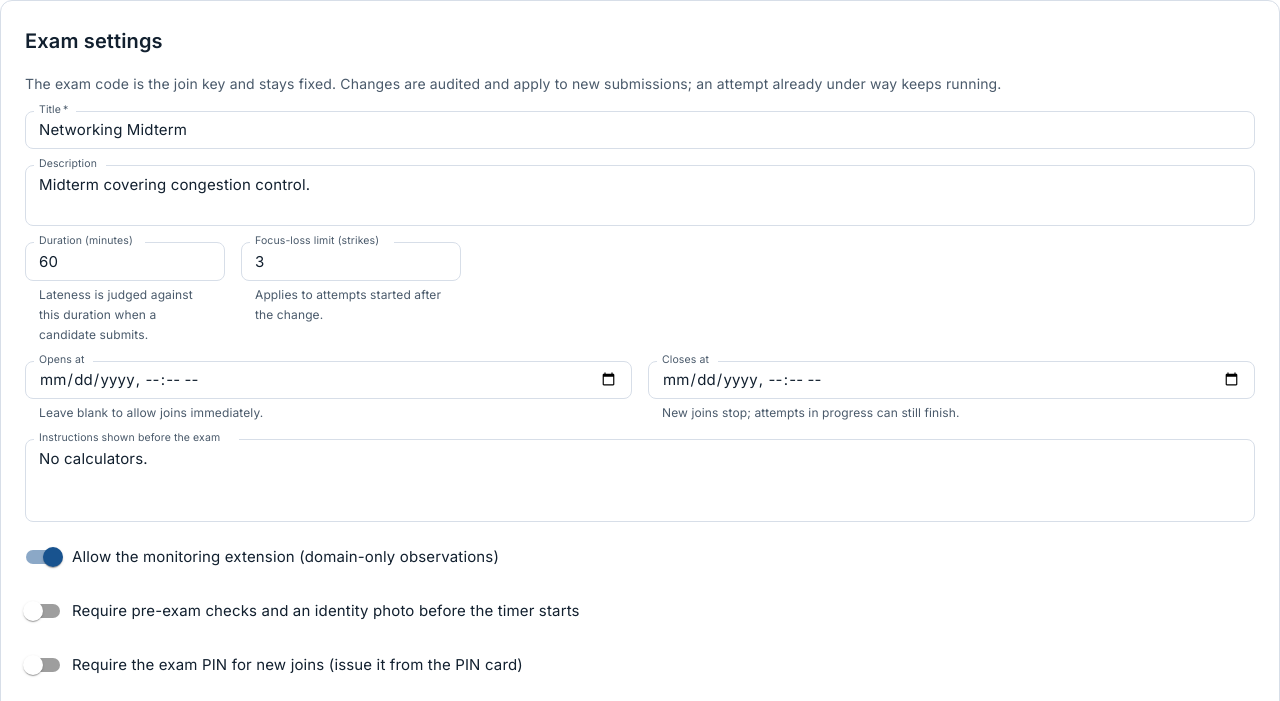
Test: SettingsTab › surfaces a validation error without sending the update
Step 1. Replace the text in the number field labelled "Duration (minutes)" with "3" → (125, 262), box [25,242,225,281]
(page scrolled)
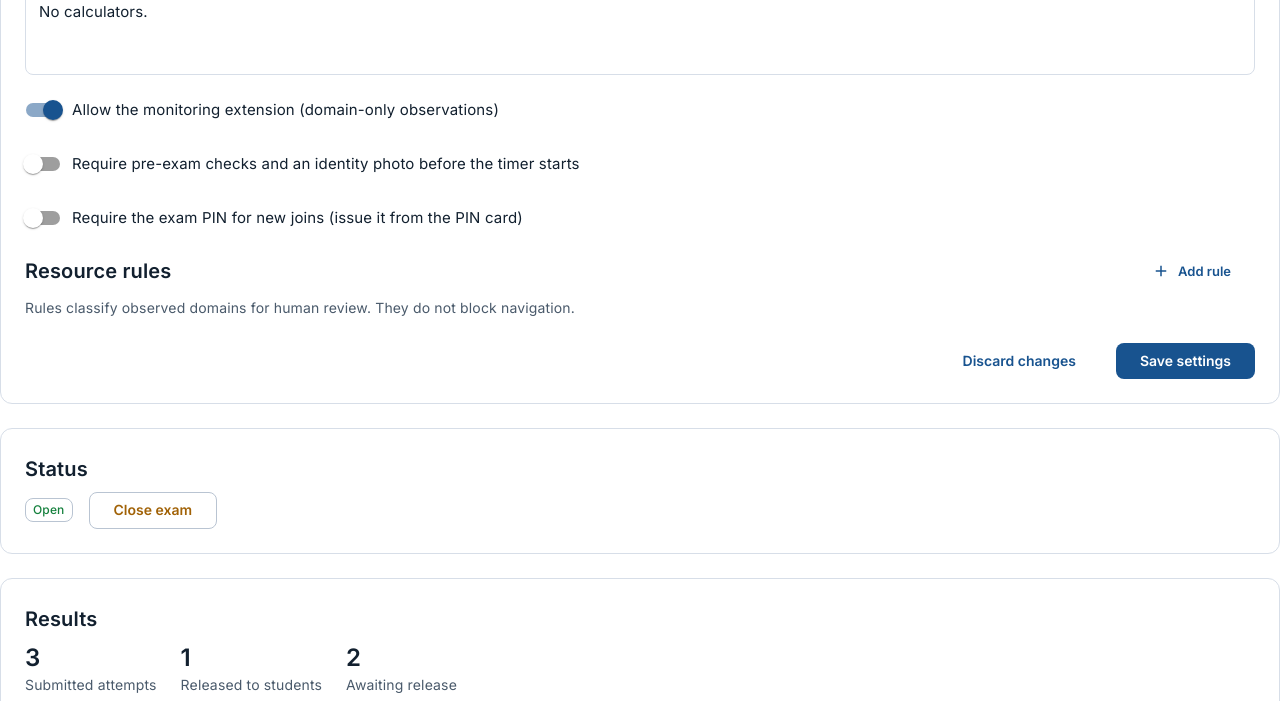
Step 2. Click the button "Save settings" → (1185, 361), box [1116,343,1255,379]
(page scrolled)
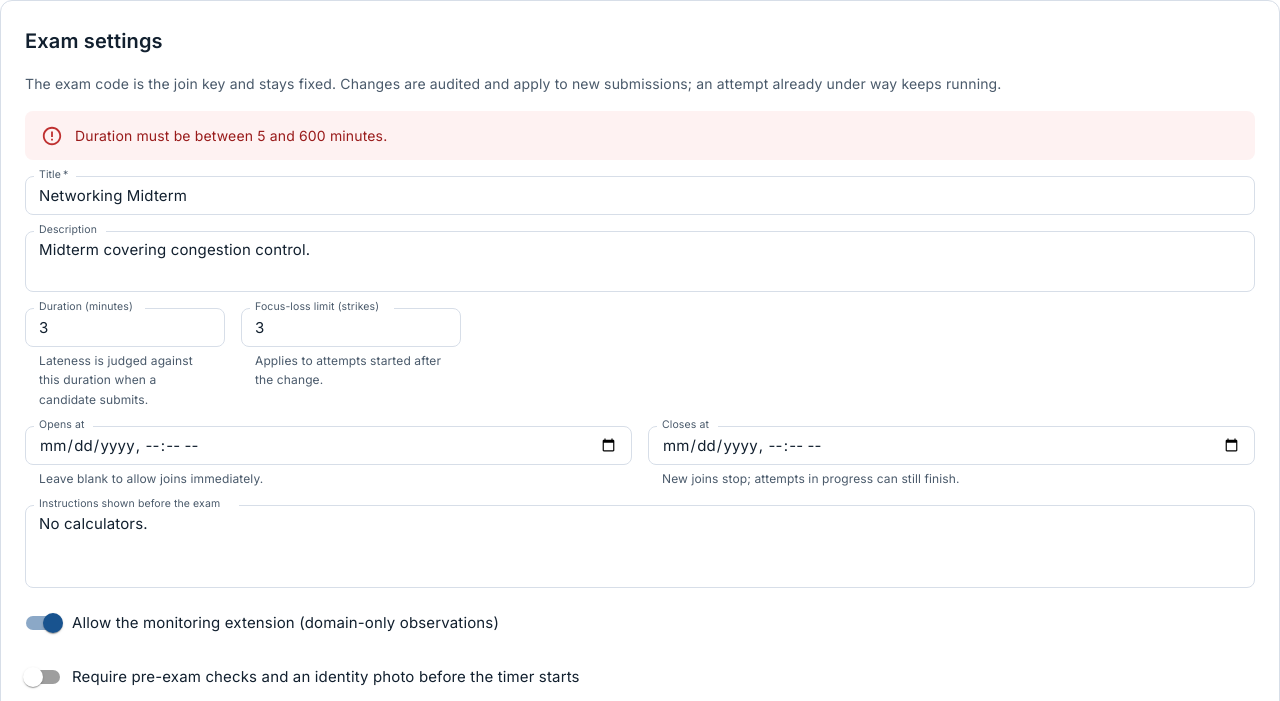
Expected: the text "Duration must be between 5 and 600 minutes." is shown, [75,127,387,144]
